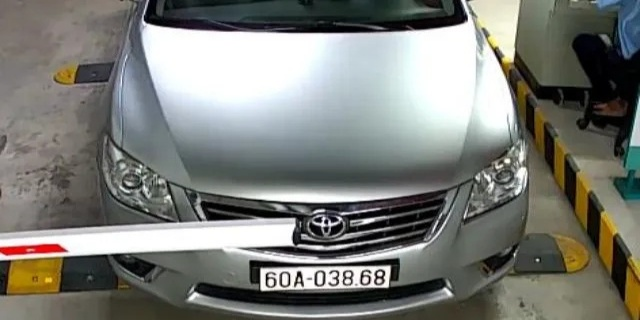bien_so: (259, 265, 391, 291)
